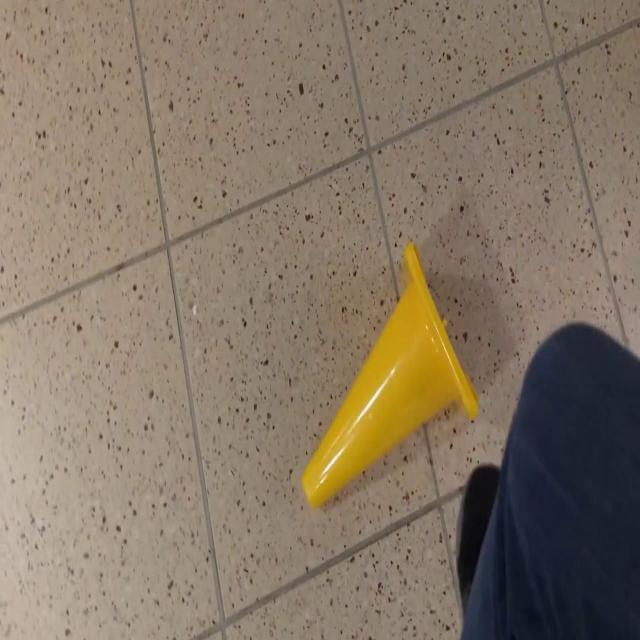frc_cone: (301, 241, 480, 510)
